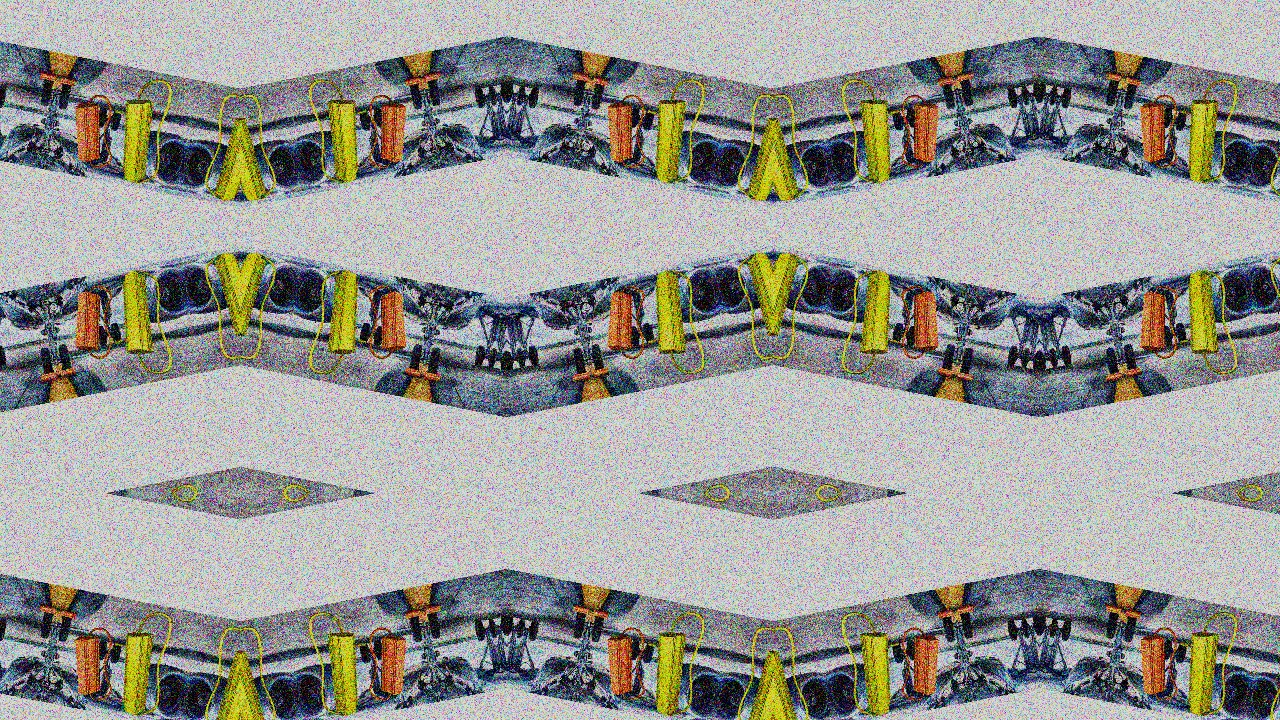chock: (111, 94, 160, 184), (320, 94, 369, 184), (644, 94, 693, 184), (111, 269, 160, 359), (320, 269, 369, 359), (644, 269, 693, 359), (111, 627, 160, 717), (320, 627, 369, 717), (644, 627, 693, 717), (854, 94, 902, 184), (1178, 94, 1226, 184), (854, 269, 902, 359), (1178, 269, 1226, 359), (854, 627, 902, 717), (1178, 627, 1226, 717), (63, 631, 110, 698), (370, 631, 417, 698), (63, 98, 110, 164), (370, 98, 417, 164), (63, 289, 110, 355), (370, 289, 417, 355), (597, 631, 643, 698), (904, 631, 950, 698), (1130, 631, 1176, 698), (597, 98, 643, 164), (904, 98, 950, 164), (1130, 98, 1176, 164), (597, 289, 643, 355), (904, 289, 950, 355), (1130, 289, 1176, 355), (213, 114, 240, 204), (240, 114, 267, 204), (746, 114, 773, 204), (773, 114, 800, 204), (213, 249, 240, 339), (240, 249, 267, 339), (746, 249, 773, 339), (773, 249, 800, 339), (213, 647, 240, 720), (240, 647, 267, 720), (746, 647, 773, 720), (773, 647, 800, 720), (38, 70, 58, 83), (422, 70, 442, 83), (571, 70, 591, 83), (956, 70, 975, 83), (1105, 70, 1124, 83), (38, 371, 58, 383), (422, 371, 442, 383), (571, 371, 591, 383), (38, 604, 58, 616), (422, 604, 442, 616), (571, 604, 591, 616), (956, 371, 975, 383), (1105, 371, 1124, 383), (956, 604, 975, 616), (1105, 604, 1124, 616), (592, 367, 610, 378), (937, 367, 955, 378), (1125, 367, 1143, 378), (592, 609, 610, 620), (937, 609, 955, 620), (1125, 609, 1143, 620), (59, 367, 76, 378), (404, 367, 421, 378), (59, 609, 76, 620), (404, 609, 421, 620), (592, 76, 610, 86), (937, 76, 955, 86), (1125, 76, 1143, 86), (59, 76, 76, 86), (404, 76, 421, 86), (113, 109, 124, 115), (356, 109, 367, 115), (113, 642, 124, 648), (356, 642, 367, 648), (647, 109, 657, 115), (890, 109, 900, 115), (1180, 109, 1190, 115), (647, 642, 657, 648), (890, 642, 900, 648), (1180, 642, 1190, 648), (113, 339, 124, 344), (356, 339, 367, 344), (647, 339, 657, 344), (890, 339, 900, 344), (1180, 339, 1190, 344)
wheel: (39, 612, 53, 640), (427, 612, 441, 640), (572, 612, 586, 640), (961, 612, 975, 640), (1105, 612, 1119, 640), (39, 79, 53, 106), (57, 83, 71, 110), (427, 79, 441, 106), (409, 83, 423, 110), (572, 79, 586, 106), (590, 83, 604, 110), (961, 79, 975, 106), (942, 83, 956, 110), (1105, 79, 1119, 106), (1124, 83, 1138, 110), (39, 347, 53, 374), (57, 343, 71, 370), (427, 347, 441, 374), (409, 343, 423, 370), (572, 347, 586, 374), (590, 343, 604, 370), (961, 347, 975, 374), (942, 343, 956, 370), (1105, 347, 1119, 374), (1124, 343, 1138, 370), (57, 616, 71, 643), (409, 616, 423, 643), (590, 616, 604, 643), (942, 616, 956, 643), (1124, 616, 1138, 643), (473, 87, 486, 109), (527, 87, 540, 109), (628, 107, 641, 129), (1007, 87, 1020, 109), (1060, 87, 1073, 109), (473, 344, 486, 366), (527, 344, 540, 366), (1007, 344, 1020, 366), (1060, 344, 1073, 366), (108, 111, 121, 132), (359, 111, 372, 132), (892, 111, 905, 132), (1175, 111, 1188, 132), (108, 322, 121, 343), (359, 322, 372, 343), (628, 325, 641, 346), (892, 322, 905, 343), (1175, 322, 1188, 343), (108, 644, 121, 665), (473, 621, 486, 642), (359, 644, 372, 665), (527, 621, 540, 642), (628, 641, 641, 662), (1007, 621, 1020, 642), (892, 644, 905, 665), (1060, 621, 1073, 642), (1175, 644, 1188, 665), (95, 107, 107, 129), (373, 107, 385, 129), (906, 107, 918, 129), (1162, 107, 1174, 129), (642, 111, 654, 132), (95, 325, 107, 346), (373, 325, 385, 346), (642, 322, 654, 343), (906, 325, 918, 346), (1162, 325, 1174, 346), (95, 641, 107, 662), (373, 641, 385, 662), (642, 644, 654, 665), (906, 641, 918, 662), (1162, 641, 1174, 662), (499, 82, 507, 104), (1032, 82, 1040, 104), (1040, 82, 1048, 104), (499, 349, 507, 371), (1032, 349, 1040, 371), (1040, 349, 1048, 371), (499, 616, 507, 637), (1032, 616, 1040, 637), (1040, 616, 1048, 637), (487, 86, 495, 106), (487, 347, 495, 367), (515, 348, 523, 368), (515, 619, 523, 639), (0, 87, 7, 109), (507, 82, 514, 104), (0, 344, 7, 366), (507, 349, 514, 371), (515, 86, 523, 105), (487, 620, 495, 639), (0, 621, 7, 642), (507, 616, 514, 637), (519, 86, 526, 106), (1021, 86, 1028, 106), (1052, 86, 1059, 106), (491, 348, 498, 368), (519, 347, 526, 367), (1024, 348, 1031, 368), (1021, 347, 1028, 367), (1049, 348, 1056, 368), (1052, 347, 1059, 367), (491, 619, 498, 639), (1024, 619, 1031, 639), (1049, 619, 1056, 639), (491, 86, 498, 105), (1024, 86, 1031, 105), (1049, 86, 1056, 105), (519, 620, 526, 639), (1021, 620, 1028, 639), (1052, 620, 1059, 639)
